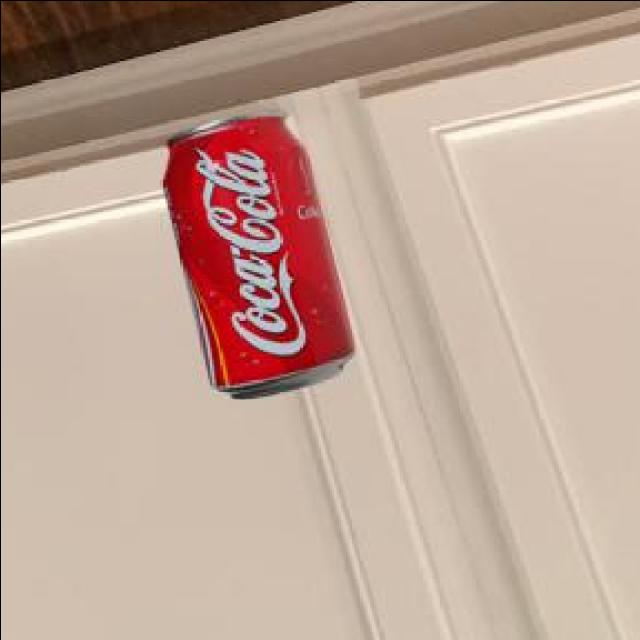logam: (166, 114, 357, 401)
